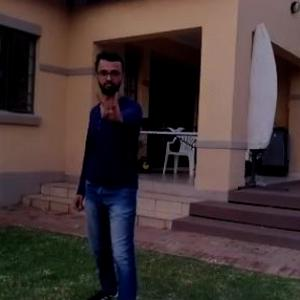takeoff-hand: (91, 81, 128, 126)
